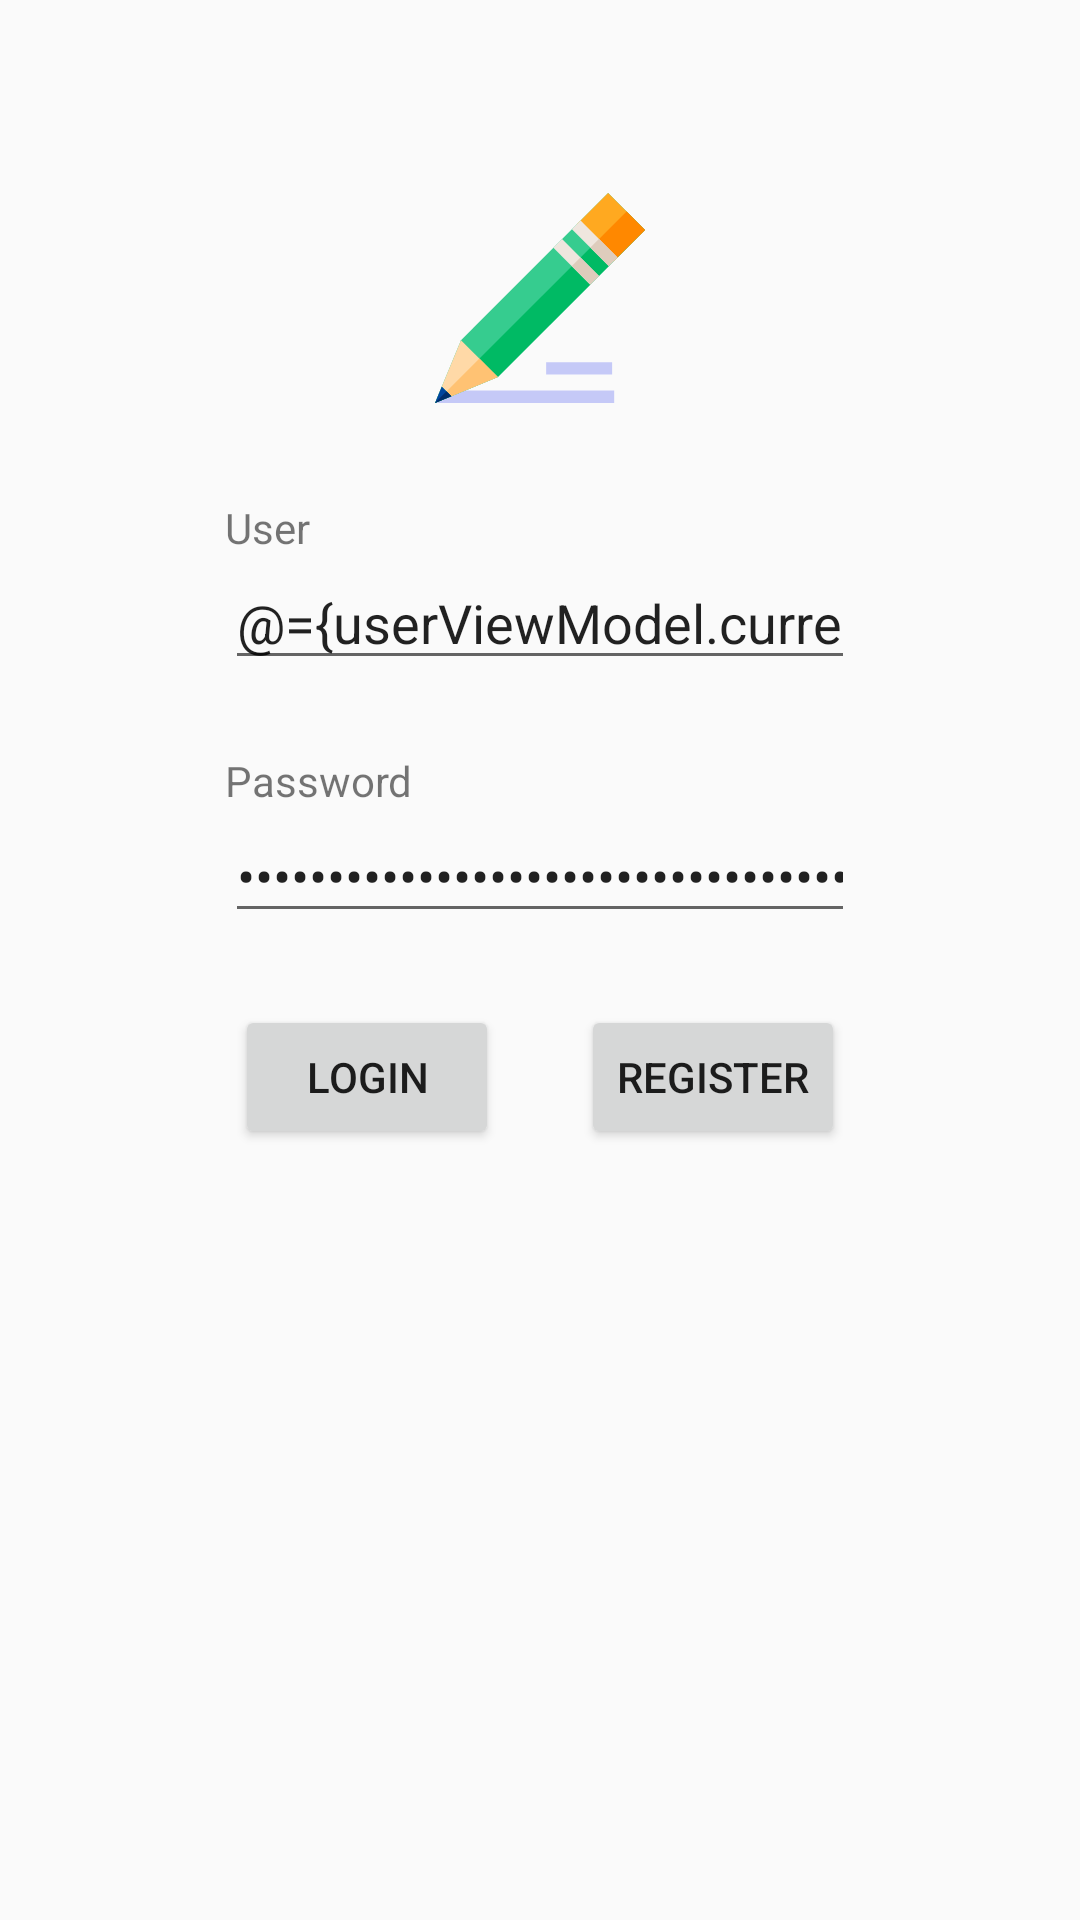

Icons on this 1080*1920 Android screen, each with the point to tap as (x=x, y=y):
Green pencil: (x=540, y=298)
